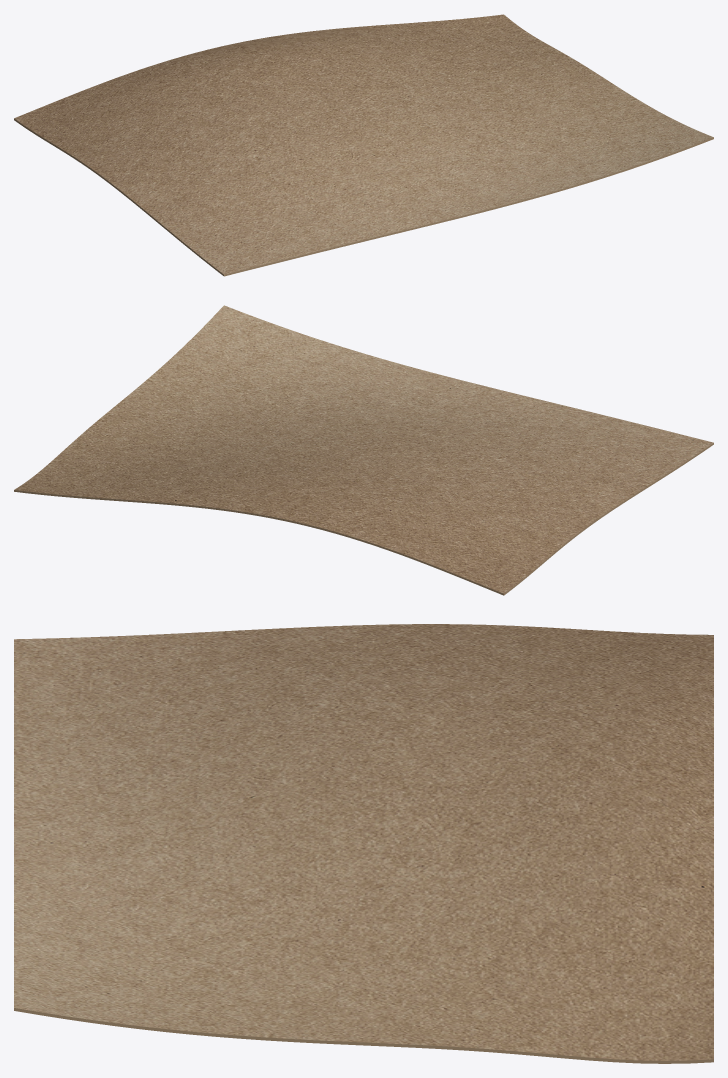
Rendered from kraft_paper_single_sheet.glb.
3 views of the same model, one above another, from view 1: azimuth 30°, elevation 25°; view 2: azimuth 150°, elevation 25°; view 3: azimuth 270°, elevation 25° (orthographic). The views are drawn at different scales.
Visible parts, largest first — view 1: MESH_Kraft_Fibrous_Top, MESH_Kraft_Thin_Edge_back, MESH_Kraft_Thin_Edge_left; view 2: MESH_Kraft_Fibrous_Top, MESH_Kraft_Thin_Edge_front, MESH_Kraft_Thin_Edge_left; view 3: MESH_Kraft_Fibrous_Top, MESH_Kraft_Thin_Edge_right.
Part boxes in pixels (x1,y1,x2,y2): MESH_Kraft_Fibrous_Top: (14,14,713,274); MESH_Kraft_Thin_Edge_back: (224,137,713,276); MESH_Kraft_Thin_Edge_left: (14,118,223,275); MESH_Kraft_Fibrous_Top: (14,305,713,593); MESH_Kraft_Thin_Edge_front: (14,490,503,595); MESH_Kraft_Thin_Edge_left: (504,443,713,595); MESH_Kraft_Fibrous_Top: (14,624,713,1060); MESH_Kraft_Thin_Edge_right: (14,1008,713,1063).
Bounding box in the file's own units: 5.05 × 0.4717 × 3.75.
2 materials, 1 textured.
